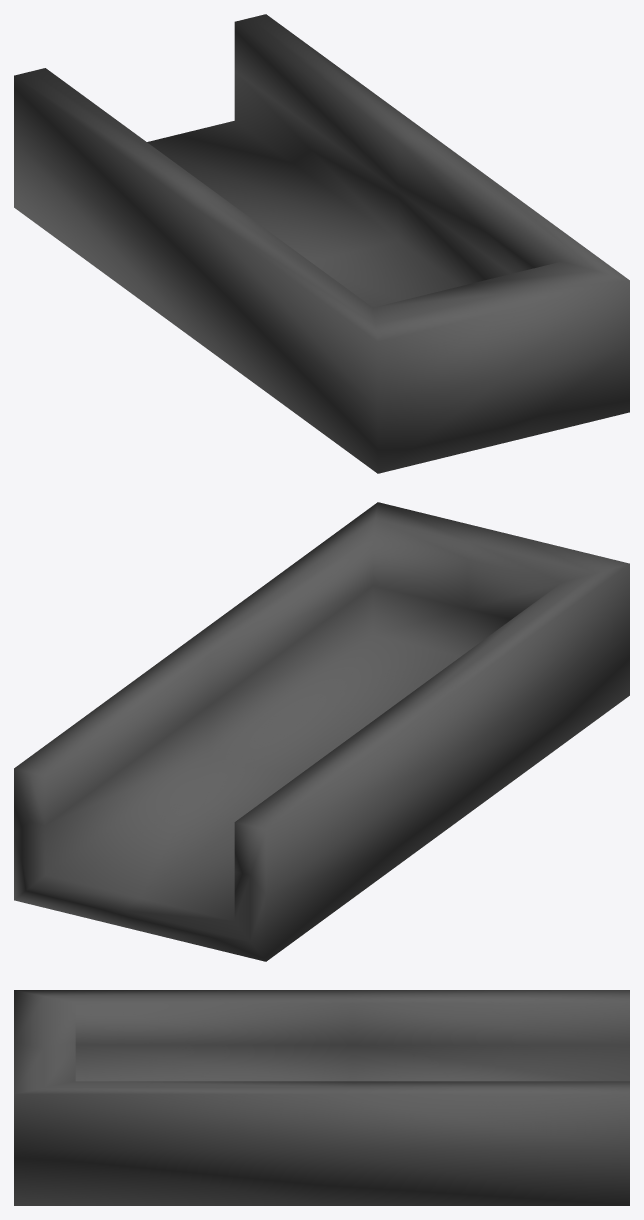
The picture shows the model from 3 angles, top to bottom: view 1: azimuth 30°, elevation 25°; view 2: azimuth 150°, elevation 25°; view 3: azimuth 270°, elevation 25°; orthographic projection. The views are drawn at different scales.
Parts seen in each view (by area): view 1: defaultobject; view 2: defaultobject; view 3: defaultobject.
Part boxes in pixels (left/top/right/bottom): defaultobject: left=14, top=14, right=629, bottom=473; defaultobject: left=14, top=502, right=629, bottom=961; defaultobject: left=14, top=990, right=629, bottom=1205.
Bounding box in the file's own units: 0.25 × 0.125 × 0.625.
Materials: 1 (1 with a texture image).
